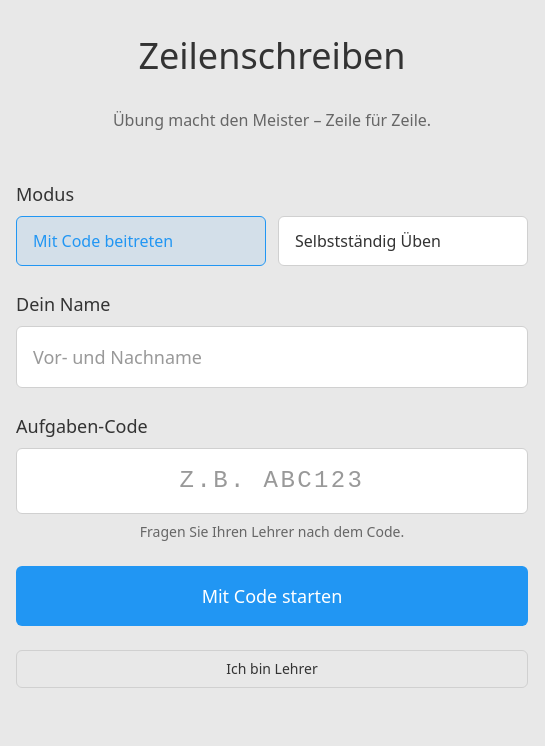
StudentForm › Validation — code join mode › shows error when name is empty
Step 1. Click the button "Mit Code starten" → (272, 596), box [16,566,528,626]
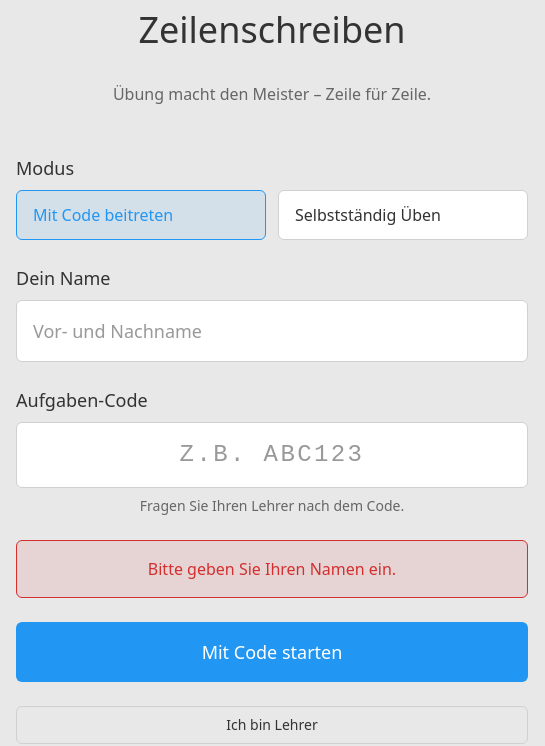
Expected: the text "Bitte geben Sie Ihren Namen ein." is shown, [16,540,528,598]
